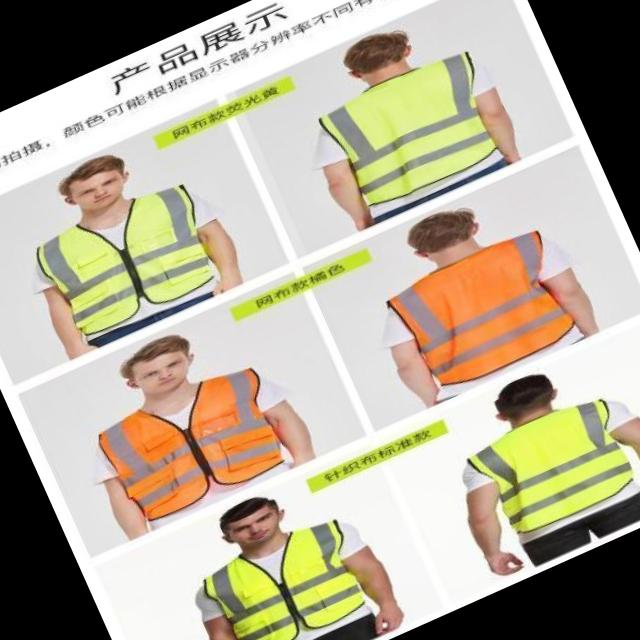safety_vest: (80, 356, 304, 538), (382, 221, 596, 400), (27, 172, 236, 350), (312, 42, 514, 215), (465, 390, 640, 550), (181, 509, 384, 640)
vehicle: (334, 158, 616, 416), (47, 290, 324, 545), (268, 0, 536, 241), (0, 113, 255, 362), (413, 329, 640, 587), (144, 451, 422, 640)
